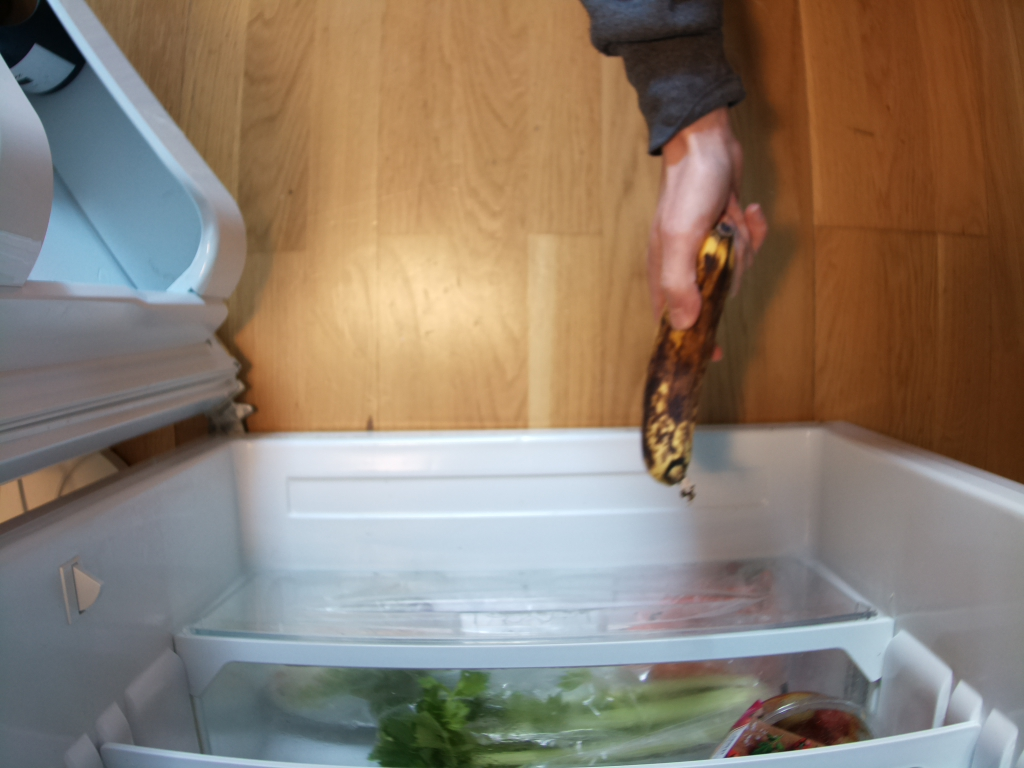banana-overripe: (642, 224, 742, 501)
